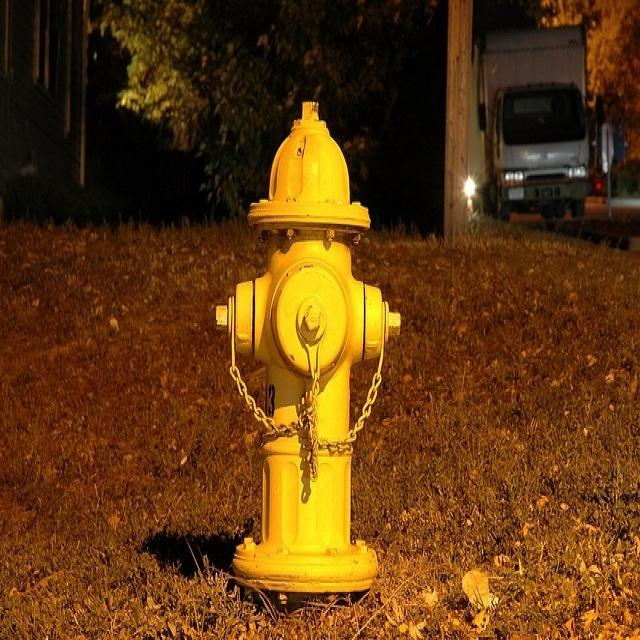fire_hydrant: (215, 80, 406, 608)
